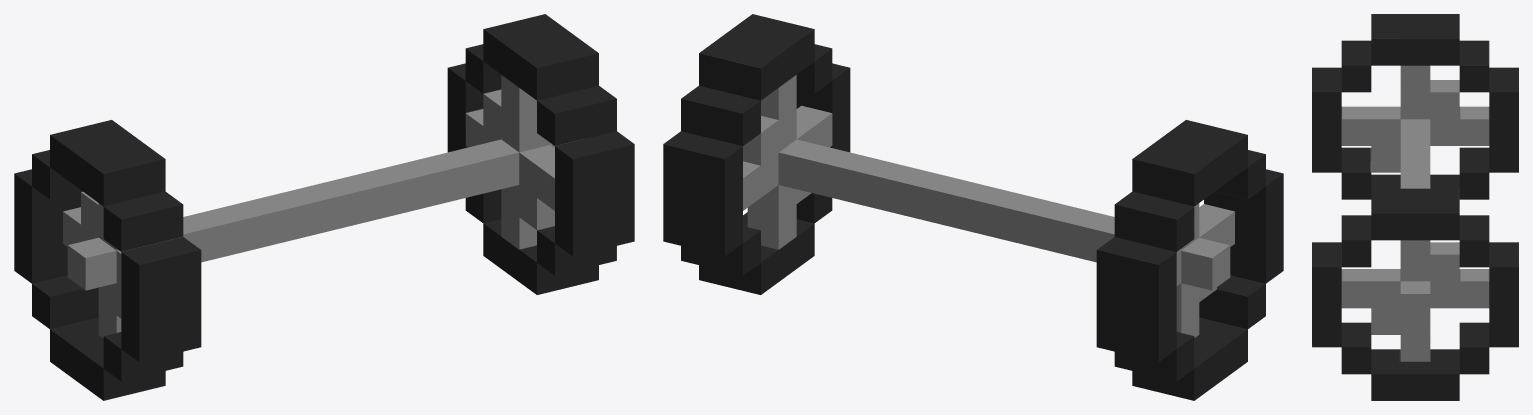
The model's file is Firetruck_Rim.obj.
The picture shows the model from 3 angles, left to right: view 1: azimuth 30°, elevation 25°; view 2: azimuth 150°, elevation 25°; view 3: azimuth 270°, elevation 25°; orthographic projection. The views are drawn at different scales.
Visible parts, largest first — view 1: Firetruck_Rim_Firetruck_Rim.001; view 2: Firetruck_Rim_Firetruck_Rim.001; view 3: Firetruck_Rim_Firetruck_Rim.001.
Part boxes in pixels (bbox=[...]): Firetruck_Rim_Firetruck_Rim.001: bbox=[14, 14, 634, 400]; Firetruck_Rim_Firetruck_Rim.001: bbox=[663, 14, 1283, 400]; Firetruck_Rim_Firetruck_Rim.001: bbox=[1312, 14, 1518, 400].
Bounding box in the file's own units: 3.2 × 1.4 × 1.4.
